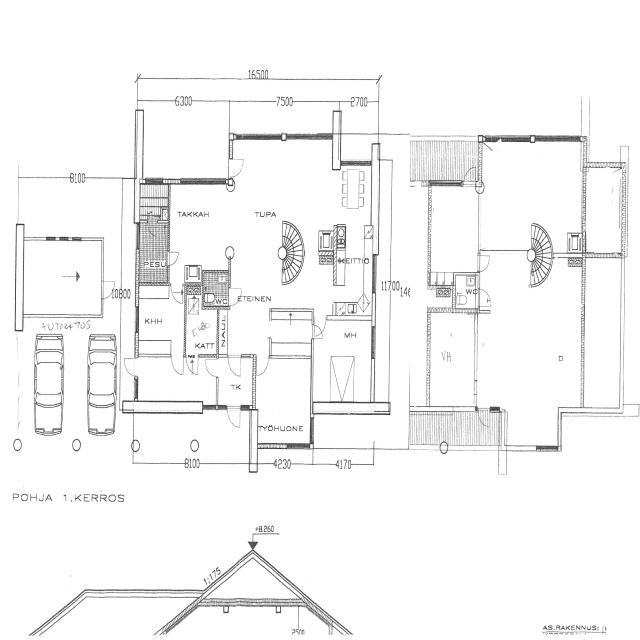door: (226, 404, 242, 430), (227, 353, 243, 379), (228, 156, 246, 179), (254, 353, 270, 378), (170, 352, 185, 377), (202, 356, 218, 378), (311, 318, 327, 339), (478, 286, 492, 310), (228, 286, 242, 308), (123, 356, 138, 376), (101, 279, 115, 300), (186, 352, 198, 376), (478, 252, 492, 272), (170, 284, 183, 304), (167, 249, 179, 266)
window: (39, 602, 76, 631), (368, 351, 378, 398), (308, 356, 315, 394), (308, 415, 316, 442)
zone: (478, 268, 574, 440), (480, 141, 578, 255), (230, 139, 294, 277), (22, 239, 104, 317), (531, 141, 585, 256), (583, 254, 623, 409), (168, 182, 232, 273), (314, 312, 374, 404), (255, 353, 312, 449), (427, 310, 478, 408), (336, 161, 373, 295), (429, 185, 480, 278), (480, 252, 536, 317), (136, 284, 185, 356), (584, 167, 624, 255), (621, 261, 640, 412), (136, 356, 188, 406), (87, 345, 116, 419), (185, 306, 222, 357), (138, 226, 168, 283), (138, 180, 169, 230), (427, 274, 459, 309), (202, 268, 228, 306), (454, 274, 478, 312), (286, 250, 304, 283)
